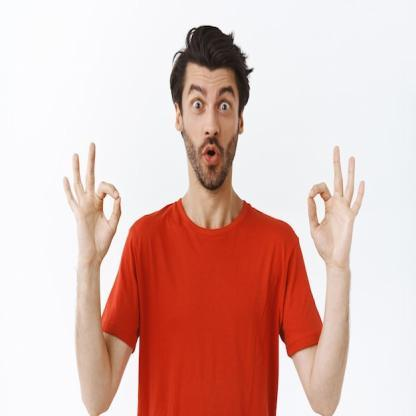ok: (60, 138, 124, 264), (306, 142, 366, 270)
